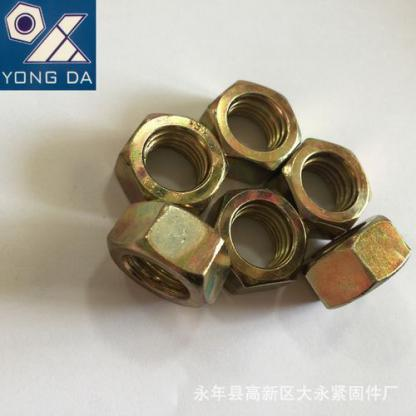FOD: (103, 200, 226, 312), (111, 112, 228, 212), (208, 185, 312, 293), (203, 79, 306, 184), (303, 214, 412, 311), (270, 132, 371, 236)
